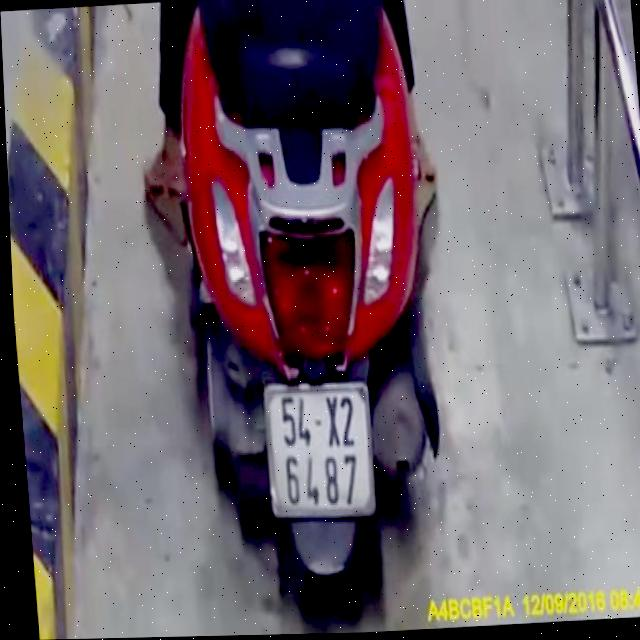motorcycle: (157, 0, 456, 635)
plate: (260, 378, 383, 524)
